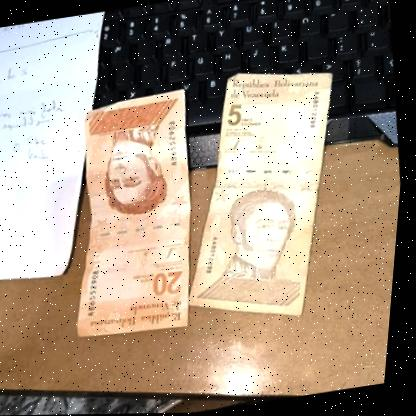five-front-vef: (162, 57, 370, 332)
twenty-front-vef: (50, 91, 221, 345)
